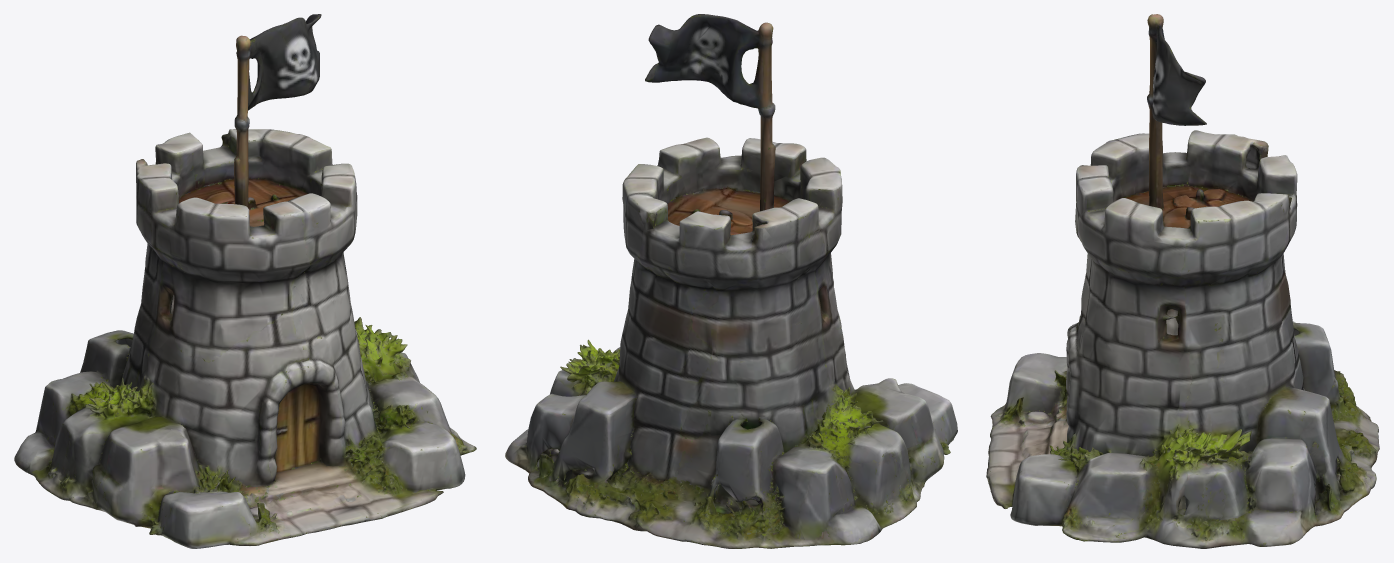
Rendered from pirate-castle.glb.
3 renders of one model, left to right at view 1: azimuth 30°, elevation 25°; view 2: azimuth 150°, elevation 25°; view 3: azimuth 270°, elevation 25°, orthographic.
Bounding box in the file's own units: 1.8 × 2 × 1.64.
1 material, 1 textured.
